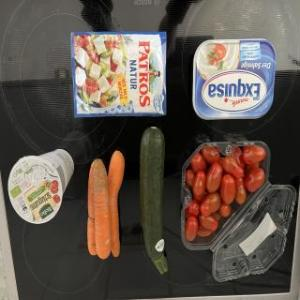carrot: (104, 147, 130, 265), (93, 141, 111, 267), (86, 150, 103, 258)
tomato: (181, 130, 285, 262)
zucchini: (138, 121, 176, 278)
